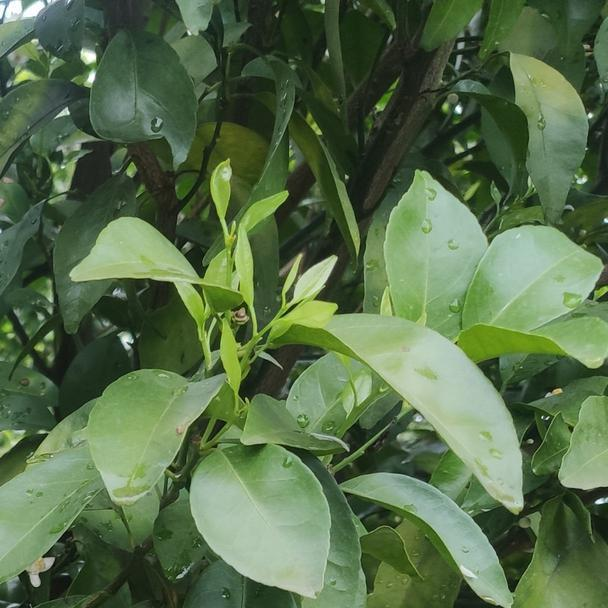shoot: (232, 237, 342, 356)
